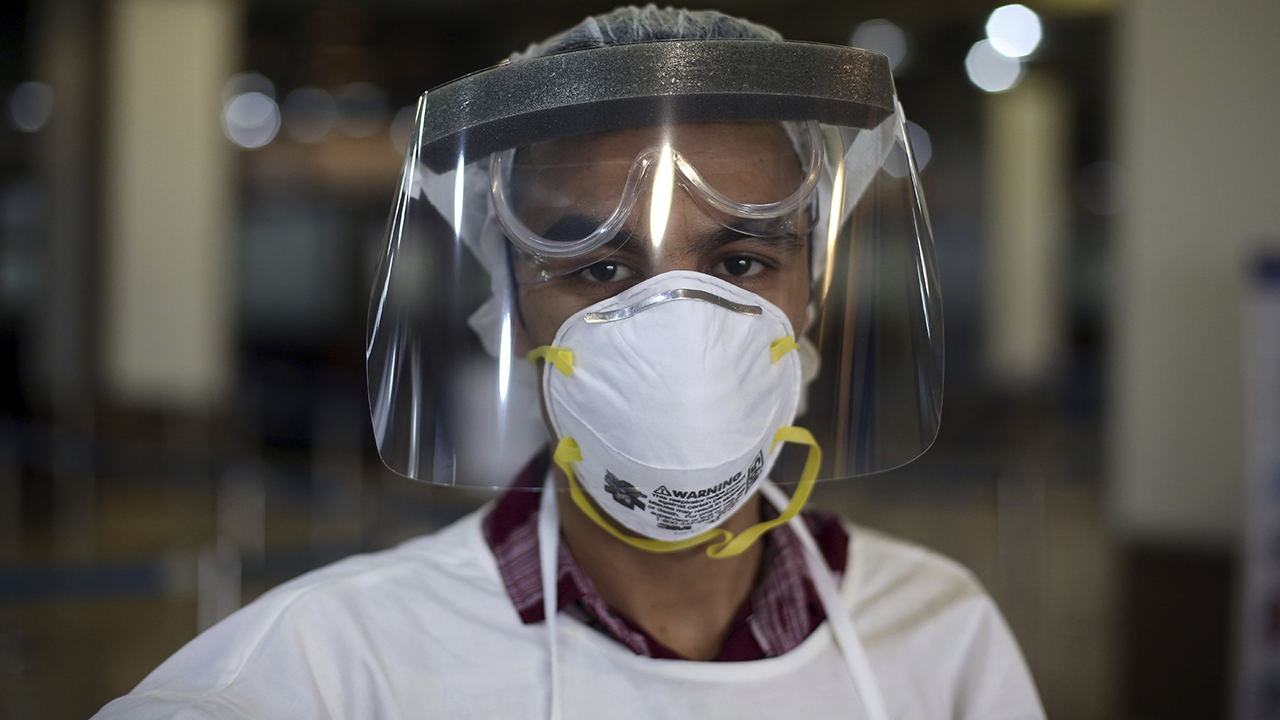n95: (538, 262, 826, 552)
